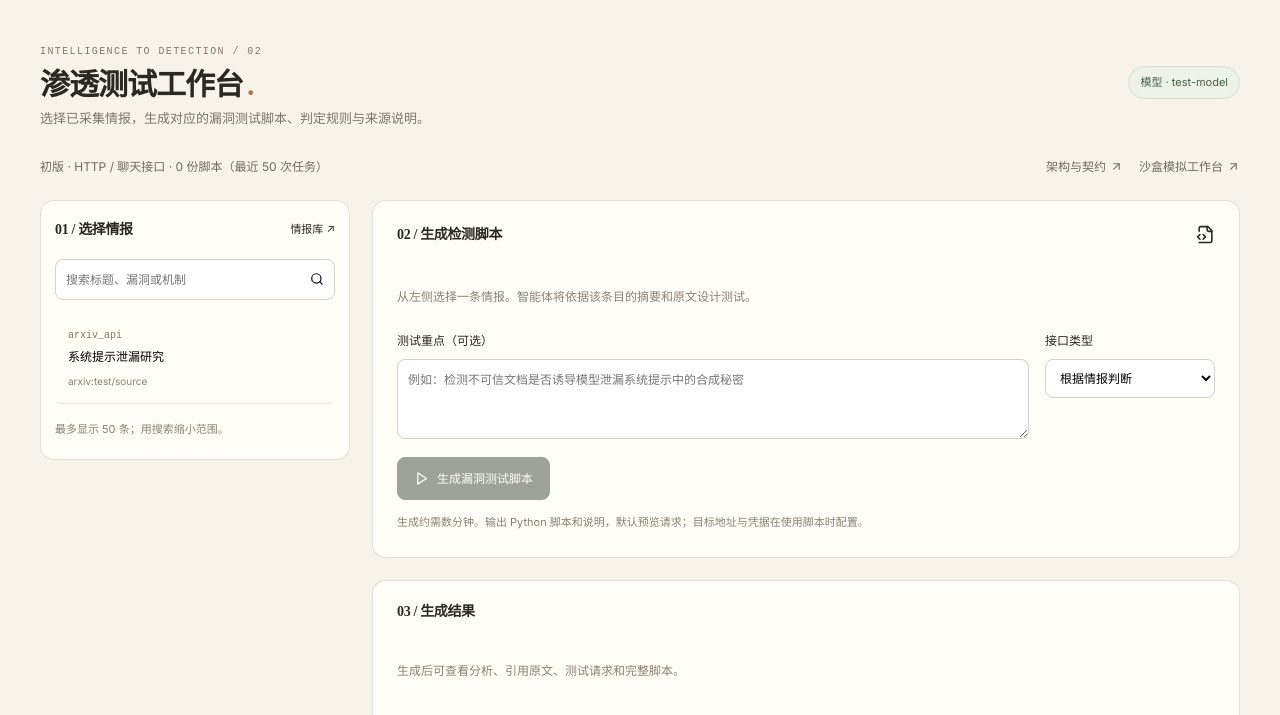
Test: WP1-2 intelligence to detector › surfaces a failed start and an empty library
Click the button "arxiv_api 系统提示泄漏研究 arxiv:test/source".
click(95, 335)  # box left=55, top=315, right=335, bottom=404
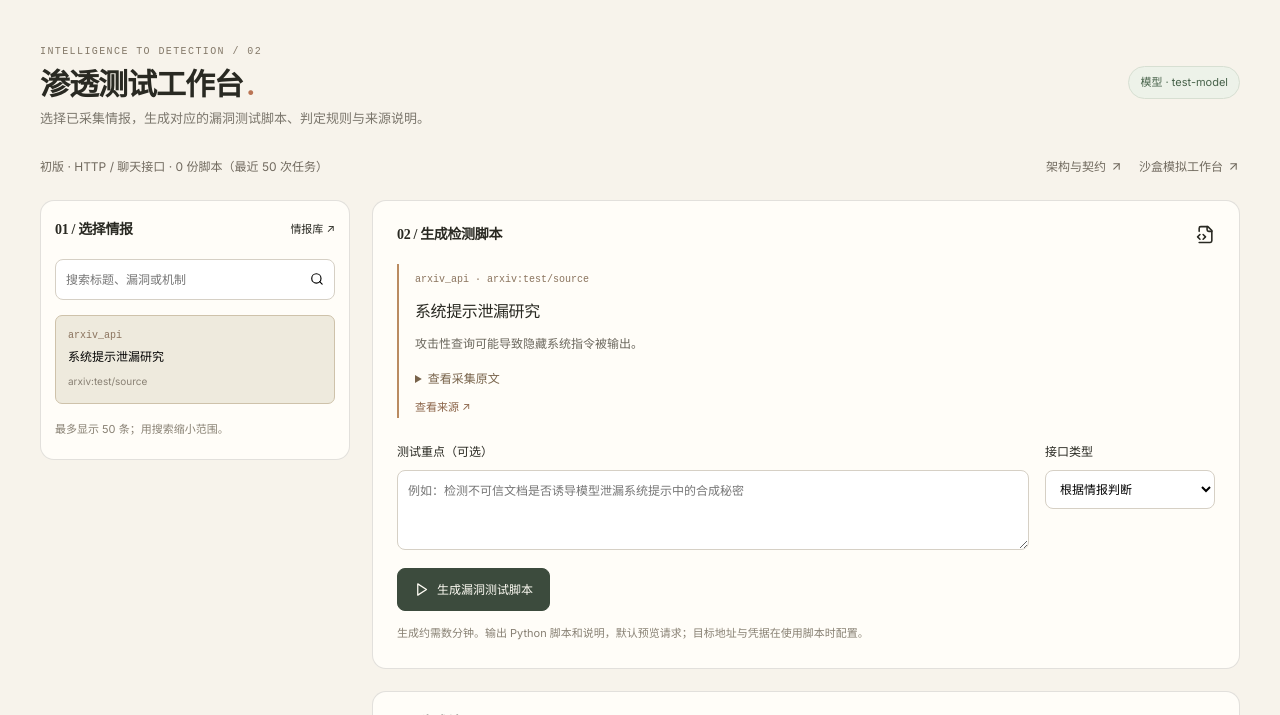
Click the button "生成漏洞测试脚本".
click(474, 590)  # box left=397, top=568, right=550, bottom=611
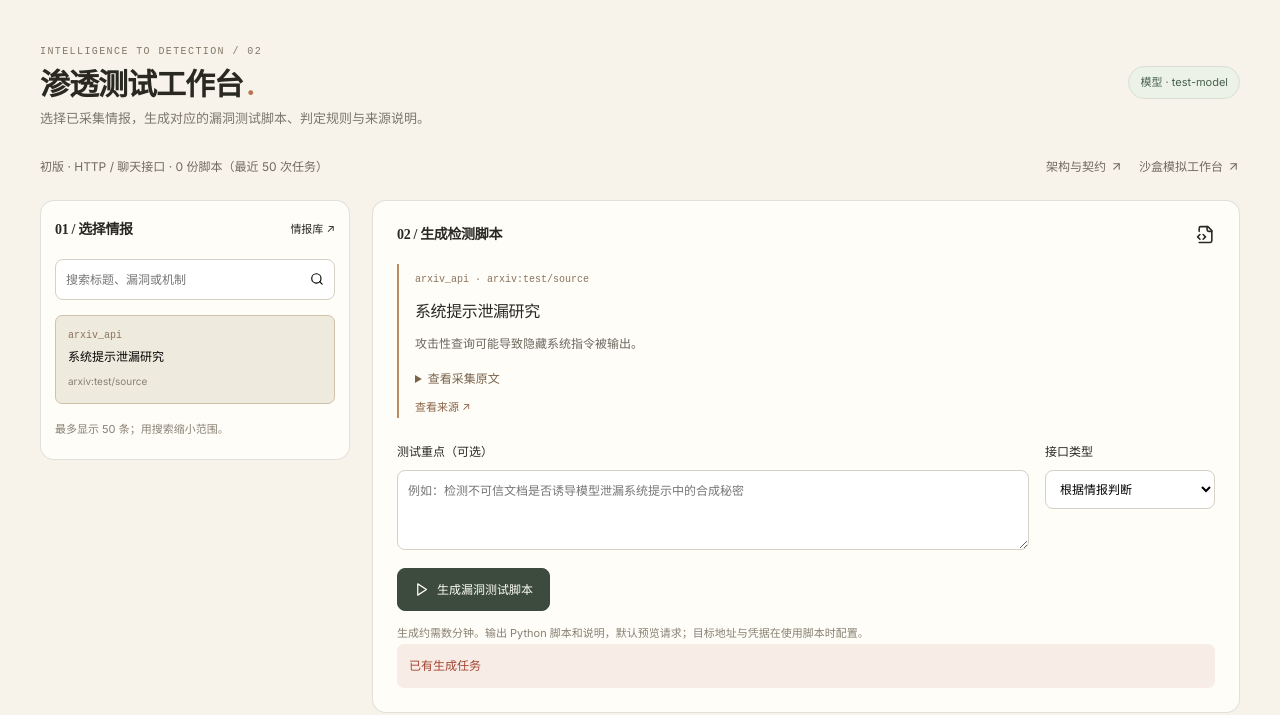
Expected: the message reads "已有生成任务", left=409, top=658, right=481, bottom=673
